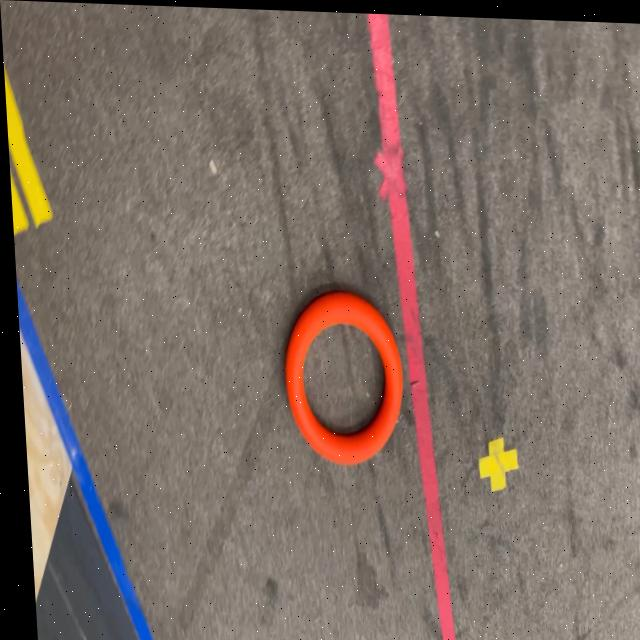note: (276, 285, 403, 465)
